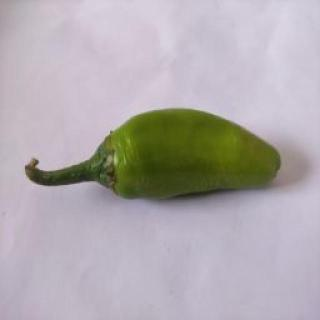Cabai Hijau: (21, 104, 287, 204)
